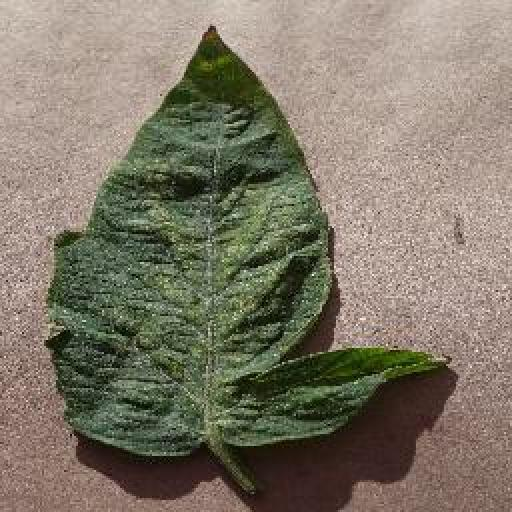disease_tomato: (44, 24, 452, 459)
